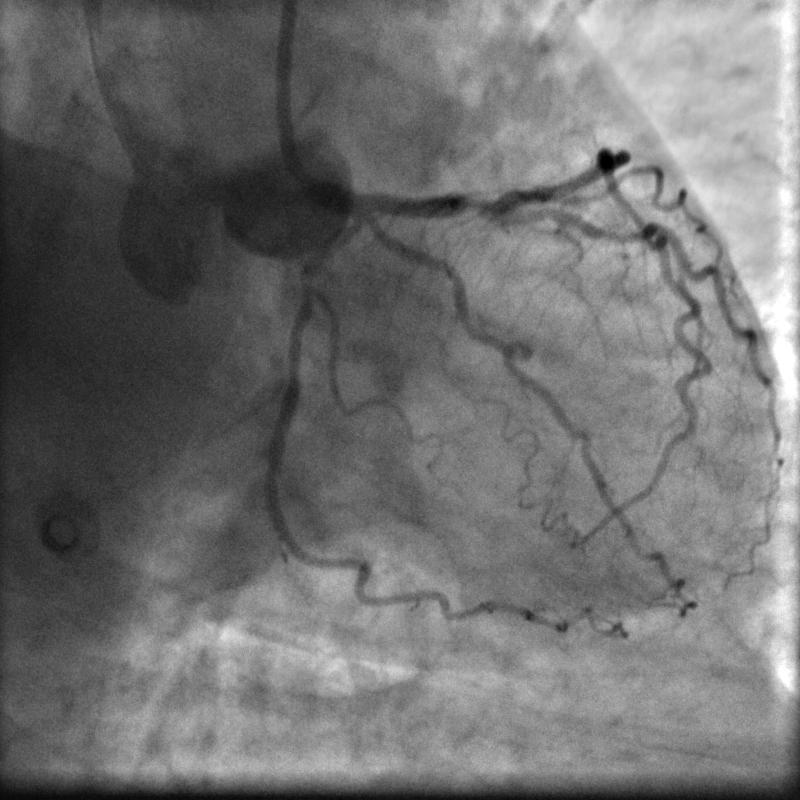Stenosis: (454, 188, 497, 220)
